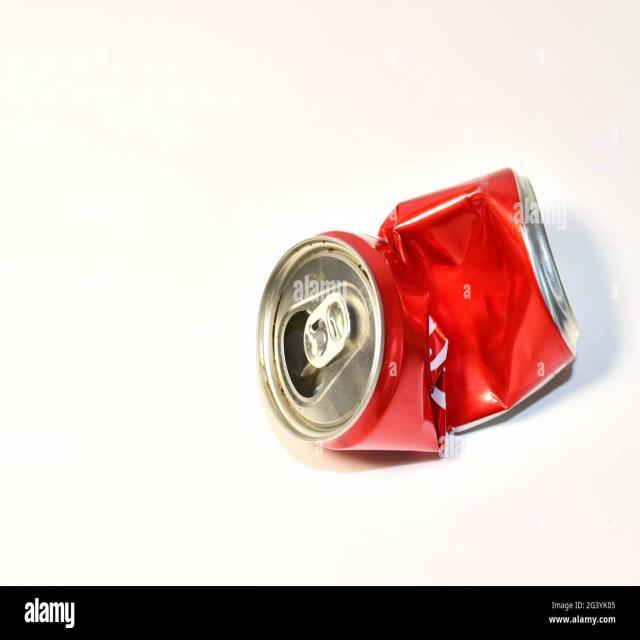can: (236, 150, 590, 506)
